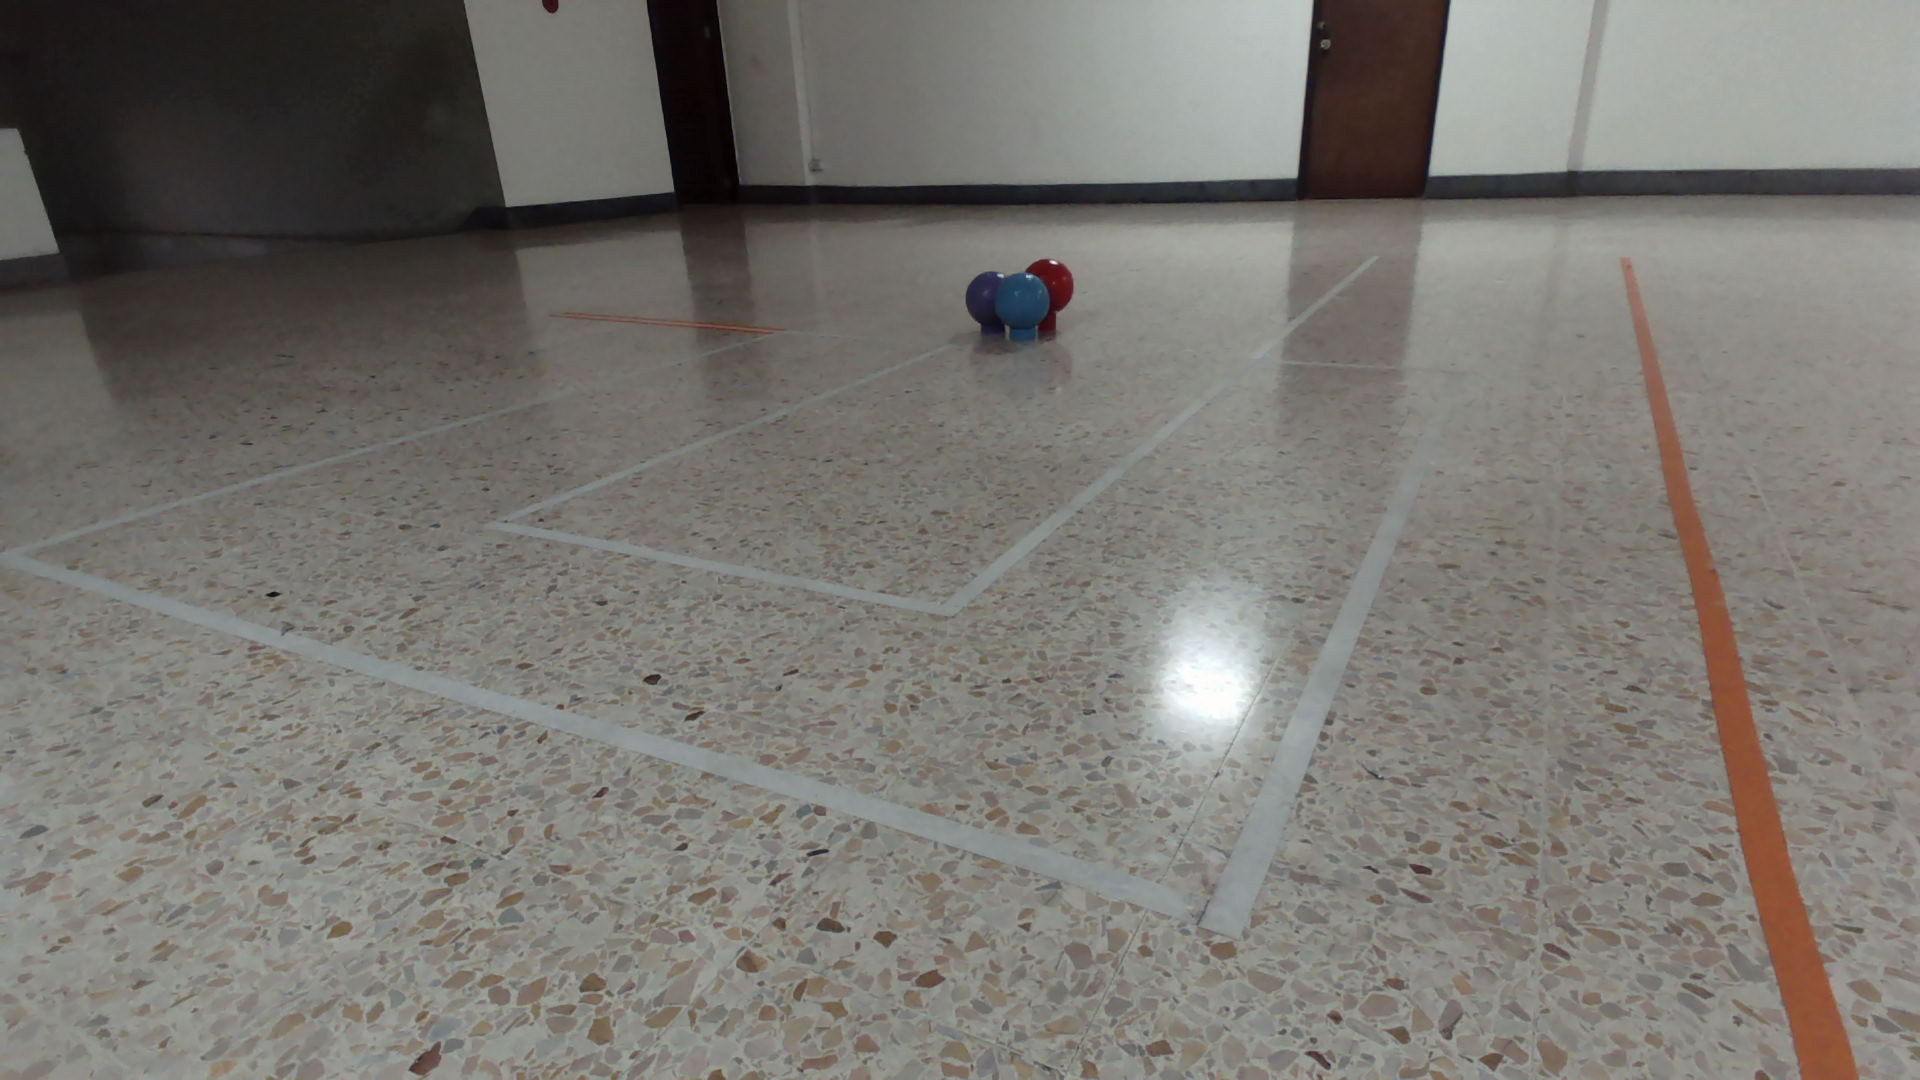Blue ball: (996, 272, 1050, 328)
Purple ball: (965, 270, 1007, 326)
Red ball: (1027, 257, 1075, 310)
